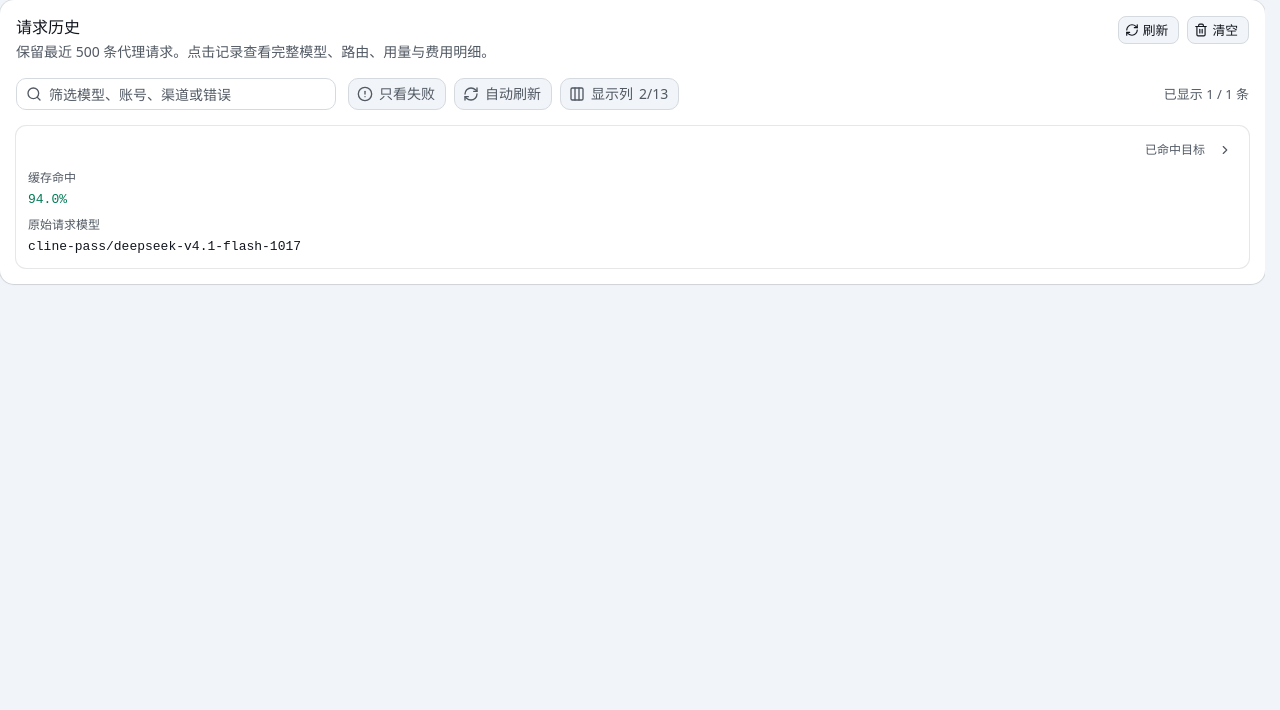
it: phone cards respect selected fields and open the same details
Check: the text "账号1" is not shown
Click the text "94.0%" at (48, 200), box [28, 192, 67, 207]
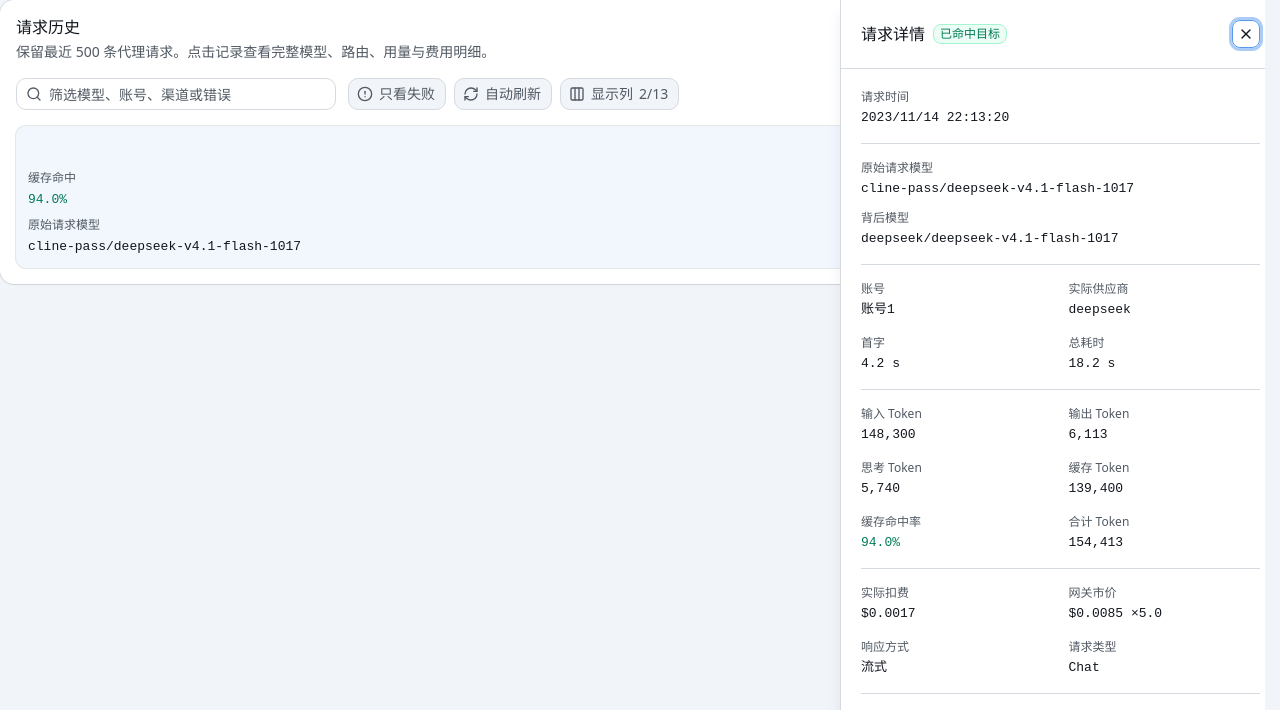
Check: the text "deepseek/deepseek-v4.1-flash-1017" is shown, box [861, 231, 1118, 246]
